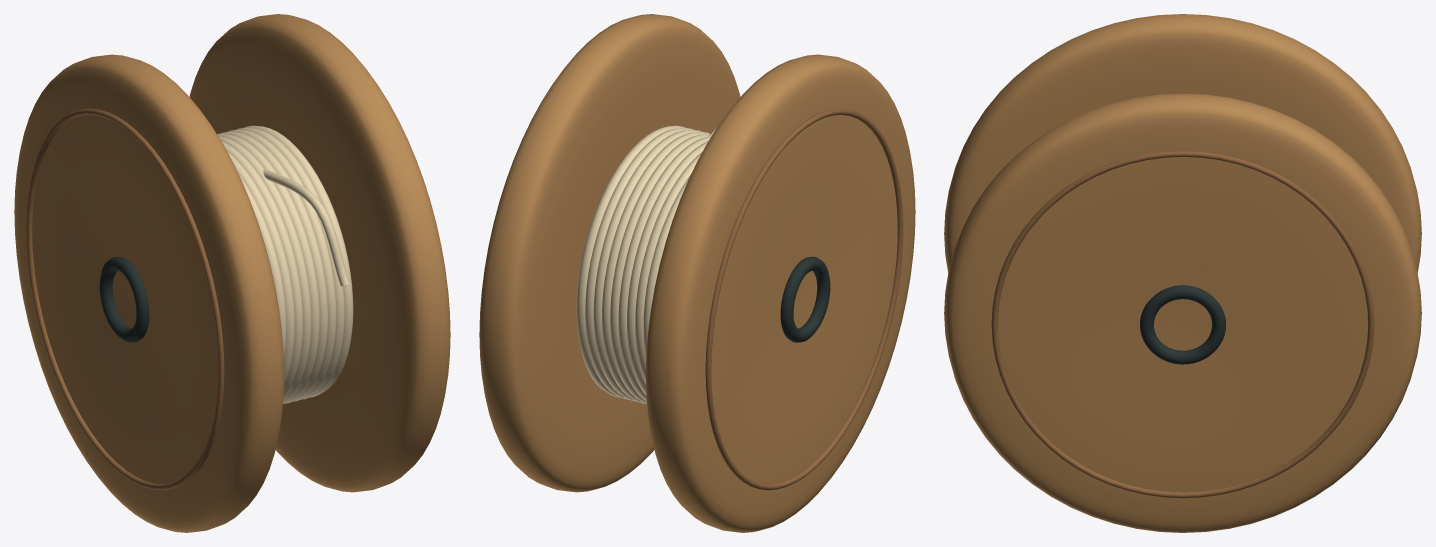
File: spool.glb
The picture shows the model from 3 angles, left to right: view 1: azimuth 30°, elevation 25°; view 2: azimuth 150°, elevation 25°; view 3: azimuth 270°, elevation 25°; orthographic projection.
Parts seen in each view (by area): view 1: wood, cream, edge, dark; view 2: wood, cream, edge, dark; view 3: wood, edge, dark.
Part boxes in pixels (box(x1,y1,x2,y2)): wood: box(14, 14, 450, 532); cream: box(217, 125, 353, 403); edge: box(26, 108, 224, 490); dark: box(99, 256, 149, 342); wood: box(479, 14, 915, 532); cream: box(576, 125, 718, 403); edge: box(705, 108, 903, 490); dark: box(780, 256, 830, 342); wood: box(944, 14, 1421, 532); edge: box(991, 151, 1374, 498); dark: box(1140, 285, 1225, 364).
Size of the model in its own units: 0.3271 by 0.6089 by 0.6089.
